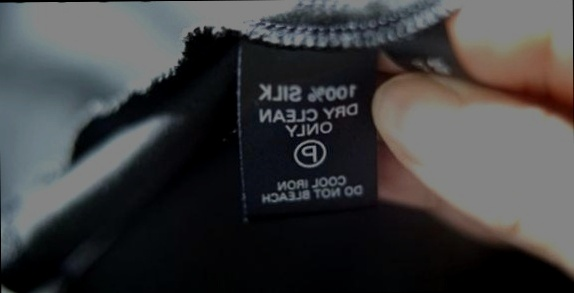dry_clean_any_solvent_except_trichloroethylene: (292, 138, 326, 168)
